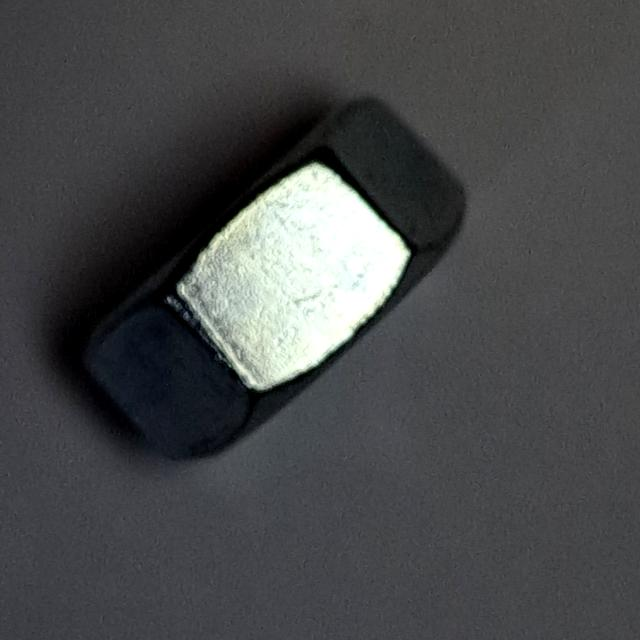Side_Excellent: (55, 72, 480, 474)
